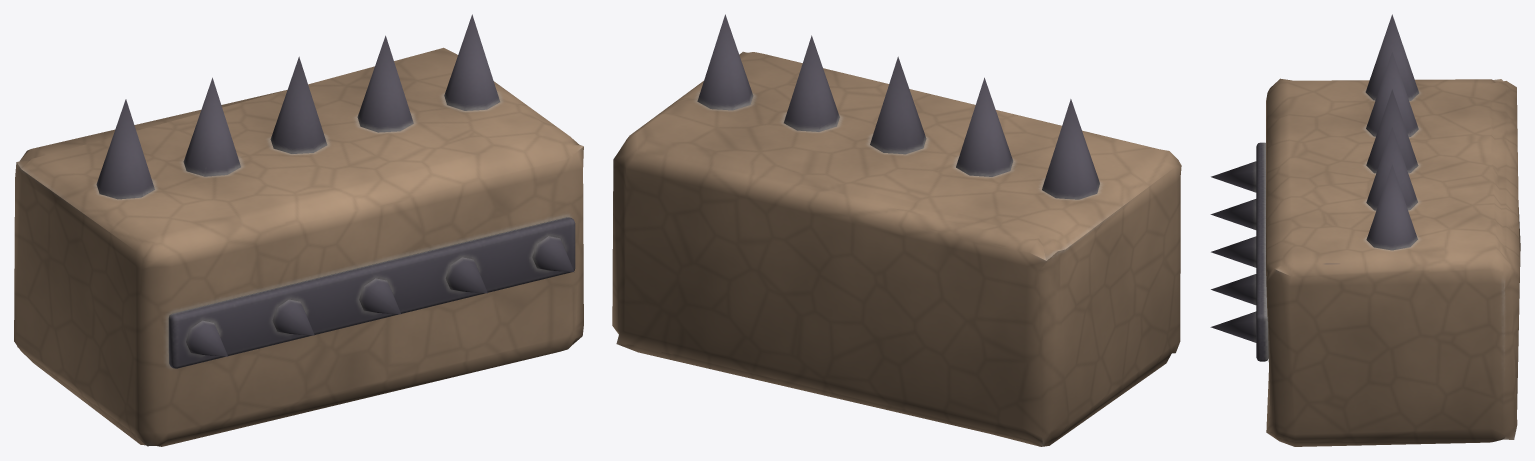
The model's file is en_obstacle_spiked_block.glb.
The picture shows the model from 3 angles, left to right: view 1: azimuth 30°, elevation 25°; view 2: azimuth 150°, elevation 25°; view 3: azimuth 270°, elevation 25°; orthographic projection. The views are drawn at different scales.
Visible parts, largest first — view 1: en_obstacle_spiked_block; view 2: en_obstacle_spiked_block; view 3: en_obstacle_spiked_block.
Boxes of the visible parts, <box> form: en_obstacle_spiked_block: <box>14,14,583,446</box>; en_obstacle_spiked_block: <box>612,14,1181,446</box>; en_obstacle_spiked_block: <box>1210,14,1520,446</box>.
Bounding box in the file's own units: 2.23 × 1.41 × 1.48.
Materials: 2 (2 with a texture image).
